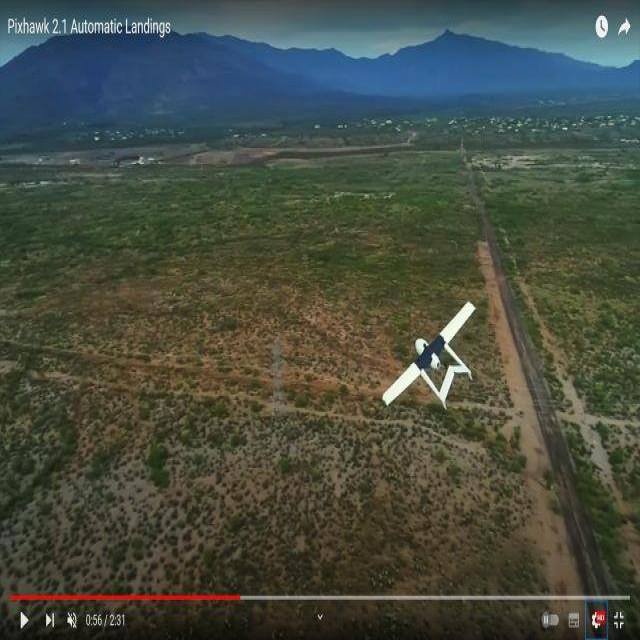iha: (410, 331, 446, 378)
